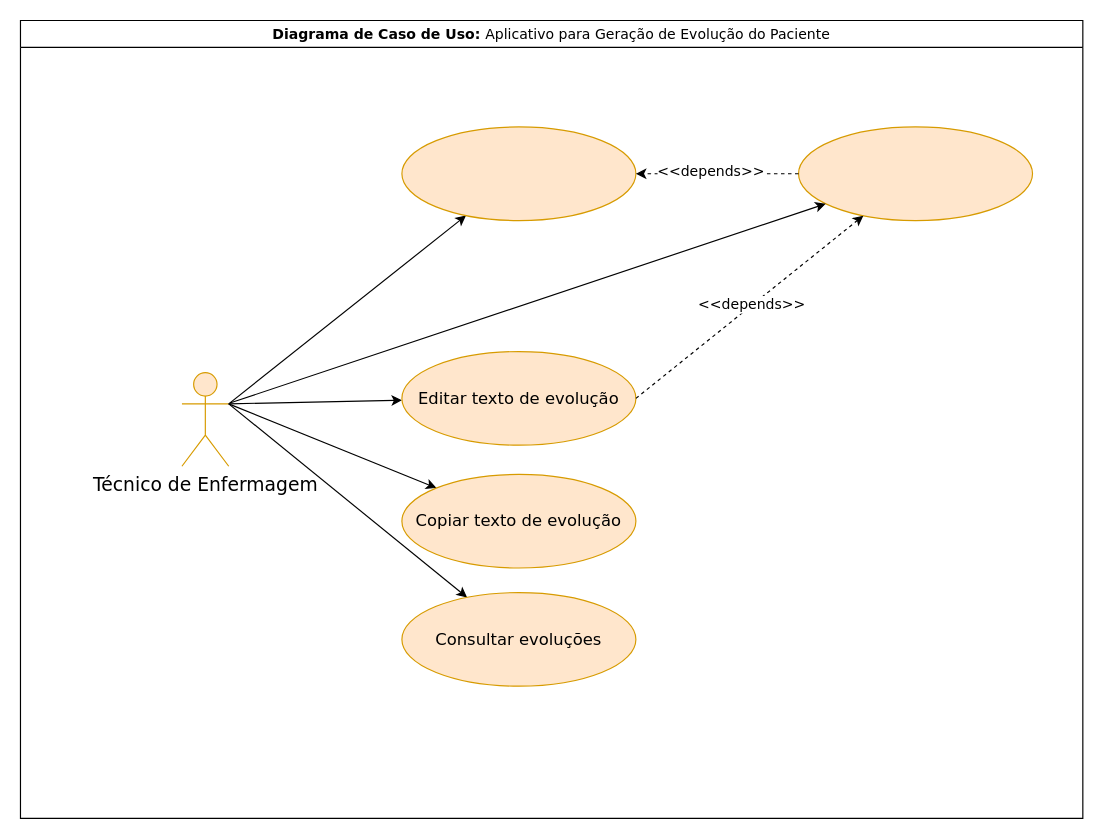
This 1103x839 diagram has some shape labels left out. Here are the shapes that lost their labels. From the top down, the centre of each, then its label:
At (x=518, y=173): "Inserir informações da evolução".
At (x=915, y=173): "Gerar texto da evolução".
